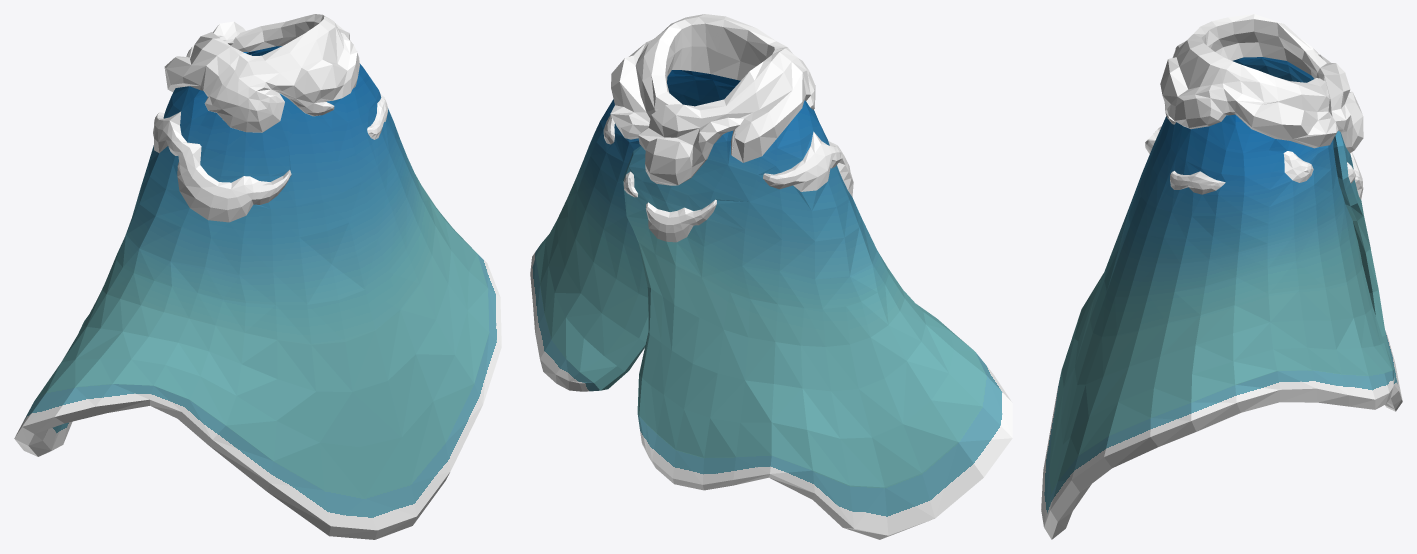
The model's file is CharSkyKid_Wing_SeaFoam.glb.
3 renders of one model, left to right at view 1: azimuth 30°, elevation 25°; view 2: azimuth 150°, elevation 25°; view 3: azimuth 270°, elevation 25°, orthographic. The views are drawn at different scales.
Visible parts, largest first — view 1: CharSkyKid_Wing_SeaFoam; view 2: CharSkyKid_Wing_SeaFoam; view 3: CharSkyKid_Wing_SeaFoam.
Part boxes in pixels (<box>): CharSkyKid_Wing_SeaFoam: <box>14,14,501,539</box>; CharSkyKid_Wing_SeaFoam: <box>530,14,1012,539</box>; CharSkyKid_Wing_SeaFoam: <box>1041,14,1402,539</box>.
Bounding box in the file's own units: 8.59 × 8.18 × 5.54.
Materials: 1 (1 with a texture image).
